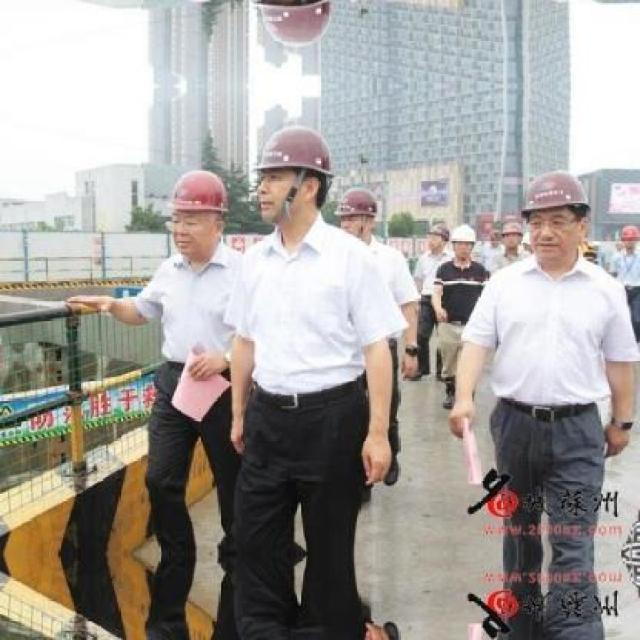helmet: (253, 117, 335, 228), (518, 166, 590, 260), (163, 165, 231, 257), (252, 0, 336, 54), (335, 181, 382, 241), (450, 218, 479, 256), (500, 215, 525, 250), (423, 221, 448, 253), (618, 219, 638, 255)
